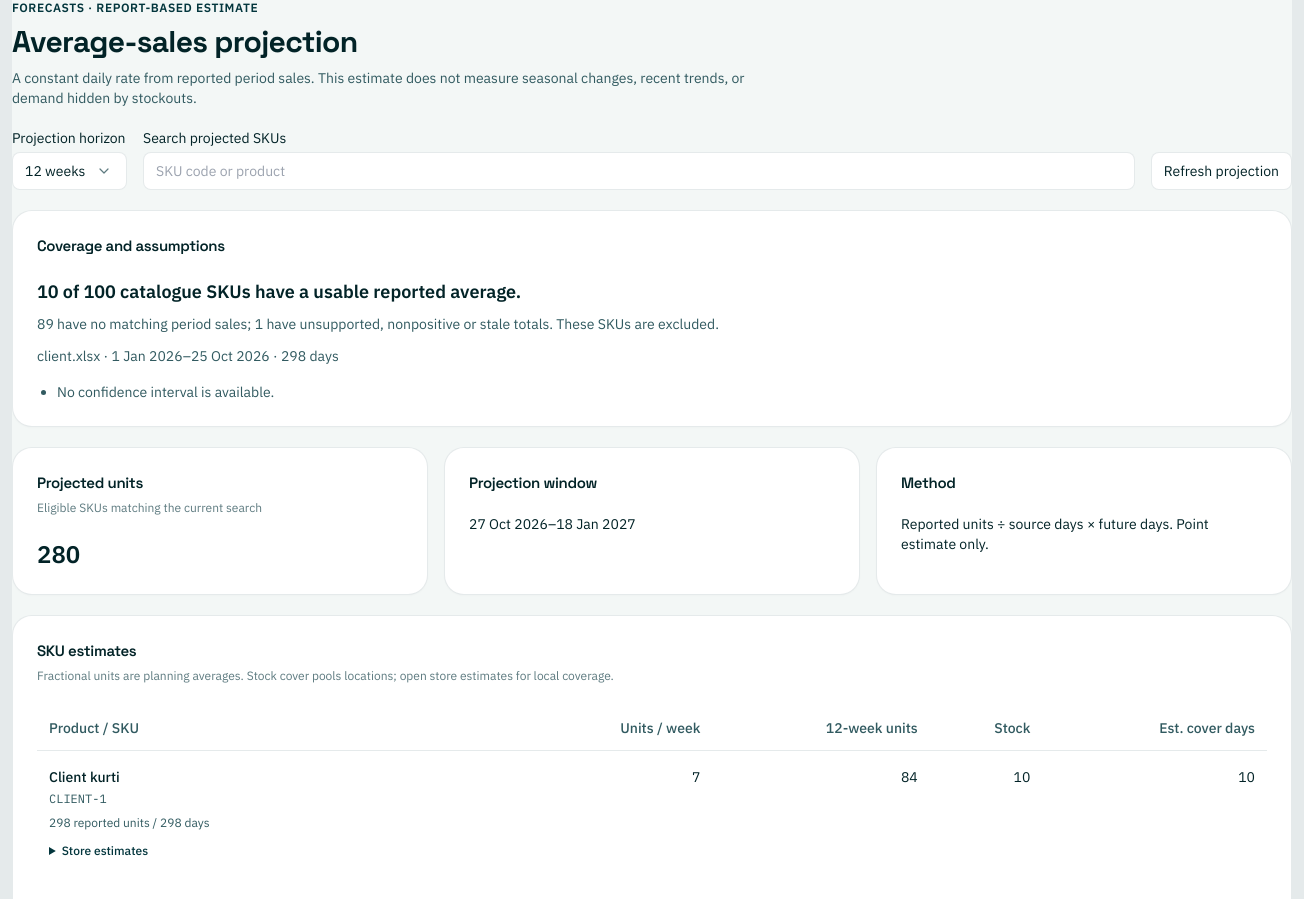
labels the constant projection and incomplete coverage without invented confidence
Expected: the heading "Average-sales projection" is shown, [12,22,358,61]
Expected: the text "10 of 100 catalogue SKUs have a usable reported average." is shown, [37,280,521,302]
Click the heading "Store estimates".
click(105, 850)  # box [62,842,148,858]
(page scrolled)
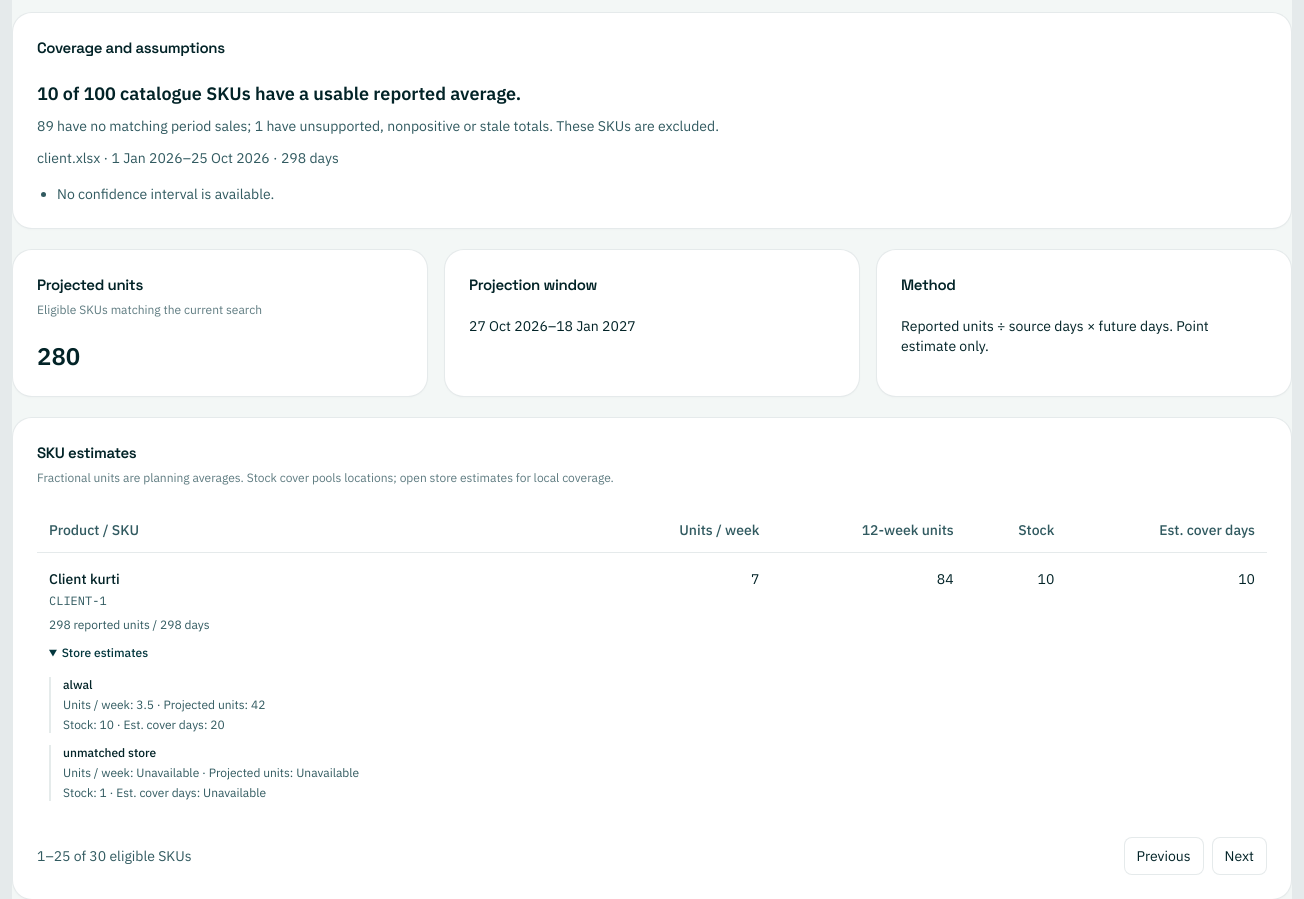
Expected: the text "unmatched store" is shown, [63,744,156,760]
Expected: the text "Units / week: Unavailable · Projected units: Unavailable" is shown, [63,764,359,780]
